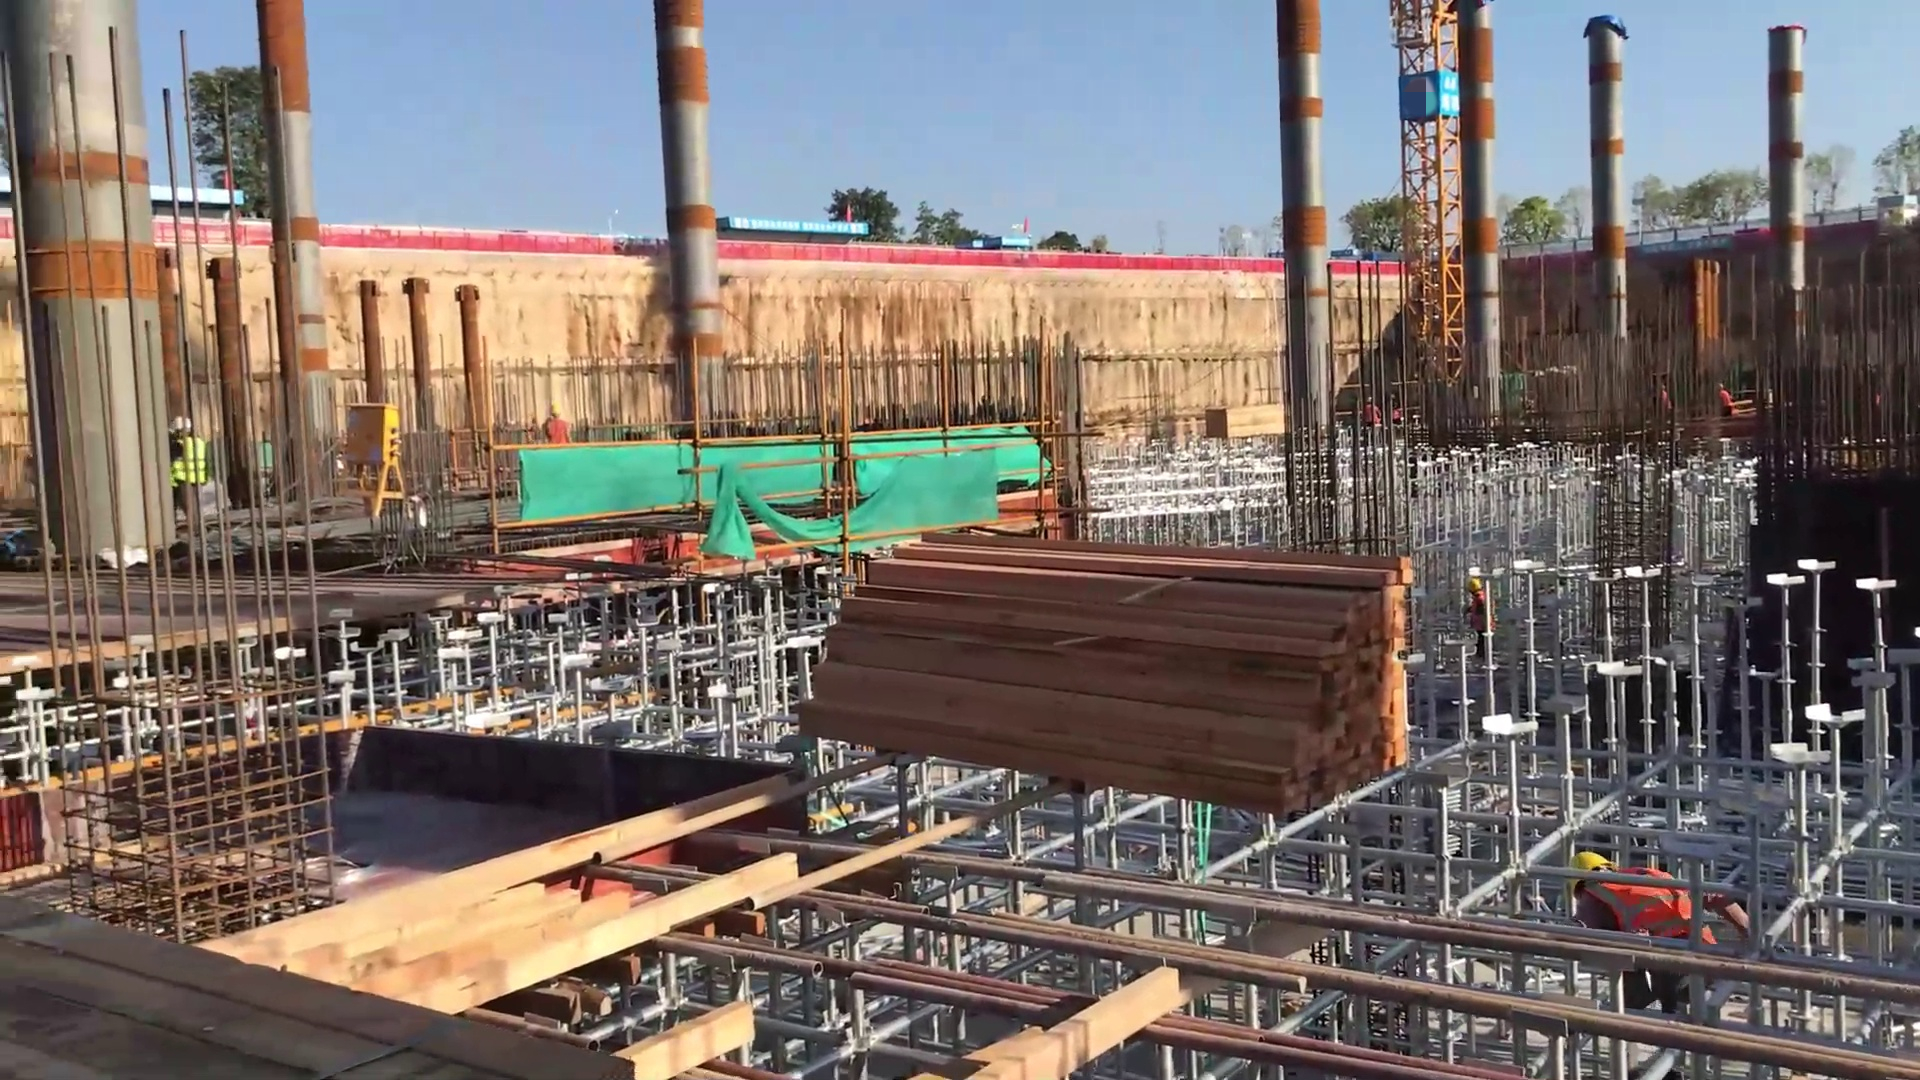ebox: (324, 392, 425, 512)
helmet: (1565, 837, 1607, 885), (165, 401, 198, 448)
vest: (1578, 873, 1742, 953), (162, 436, 231, 488)
wood: (794, 506, 1429, 796)
